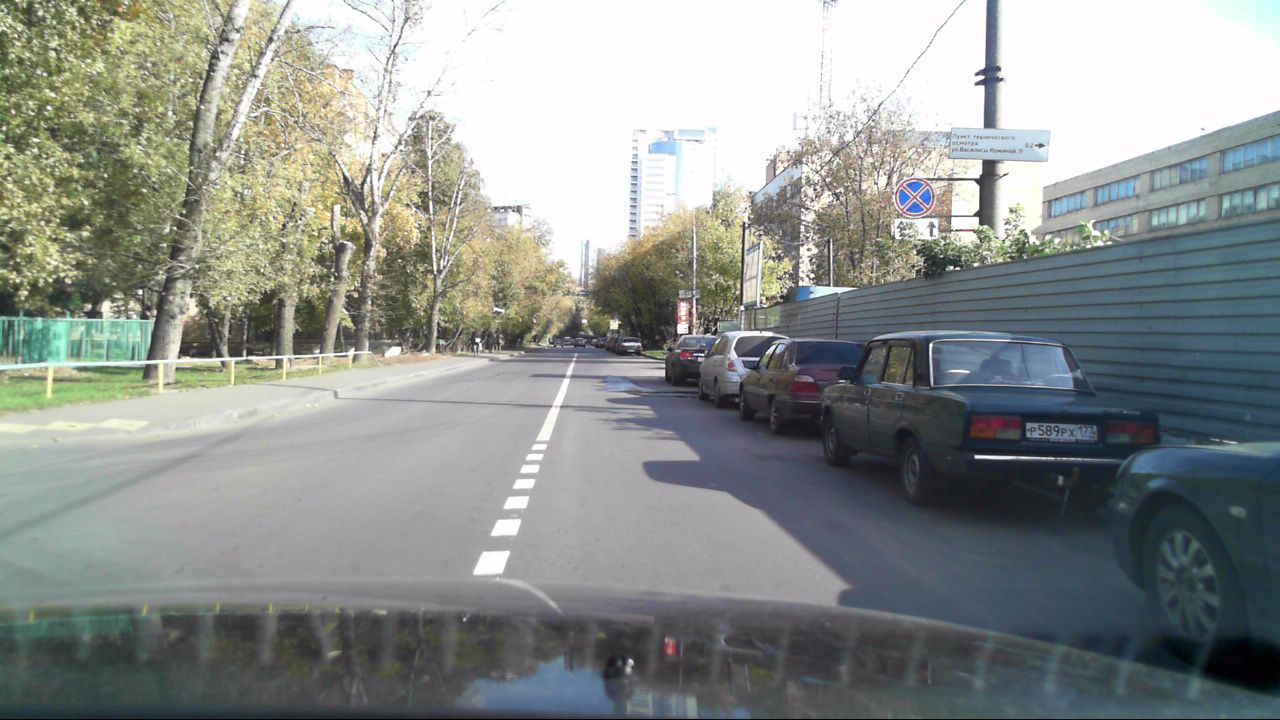No Parking: (893, 175, 936, 219)
